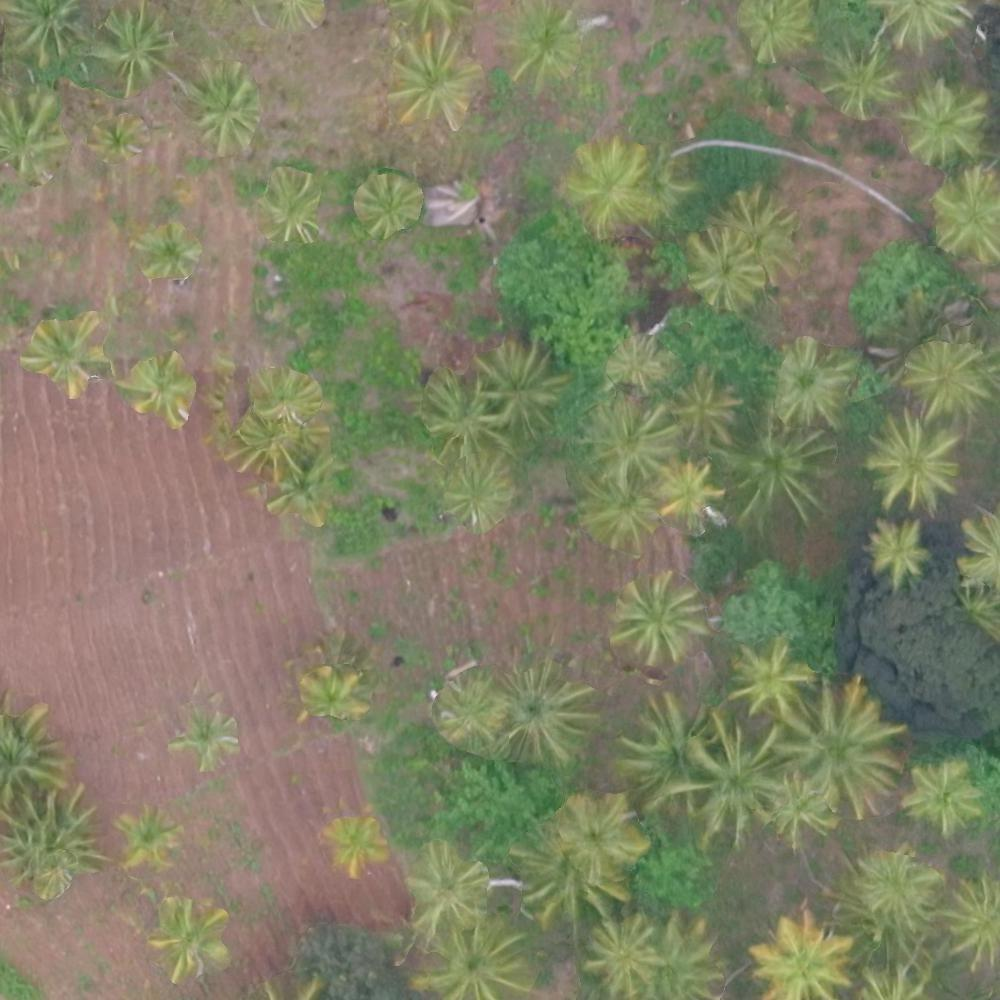Palm: (774, 679, 895, 813), (681, 715, 787, 835), (615, 694, 719, 808), (721, 418, 830, 524), (493, 662, 591, 758), (750, 916, 857, 997), (470, 341, 565, 432), (565, 135, 655, 229), (421, 917, 524, 998), (614, 572, 711, 658), (866, 418, 955, 511), (557, 794, 647, 883), (582, 393, 675, 477), (502, 1, 590, 88), (850, 846, 938, 933), (419, 379, 510, 456), (682, 230, 766, 313), (387, 38, 474, 118), (901, 79, 983, 159), (578, 472, 662, 549), (405, 840, 490, 916), (149, 896, 229, 975), (909, 332, 985, 414), (929, 169, 1000, 254), (578, 917, 663, 988), (775, 343, 848, 425), (734, 638, 813, 711), (183, 66, 258, 142), (824, 44, 900, 119), (1, 90, 75, 167), (92, 11, 172, 82), (903, 759, 982, 830), (668, 365, 740, 440), (738, 1, 818, 65), (443, 458, 518, 526), (30, 316, 100, 388), (433, 677, 509, 743), (660, 458, 730, 526), (600, 325, 671, 390), (10, 1, 84, 62), (865, 516, 929, 584), (299, 662, 365, 727), (169, 707, 240, 766), (117, 812, 183, 873), (258, 176, 319, 240), (130, 356, 193, 415), (135, 223, 199, 281), (325, 813, 390, 869), (357, 176, 416, 231), (92, 113, 144, 160)
